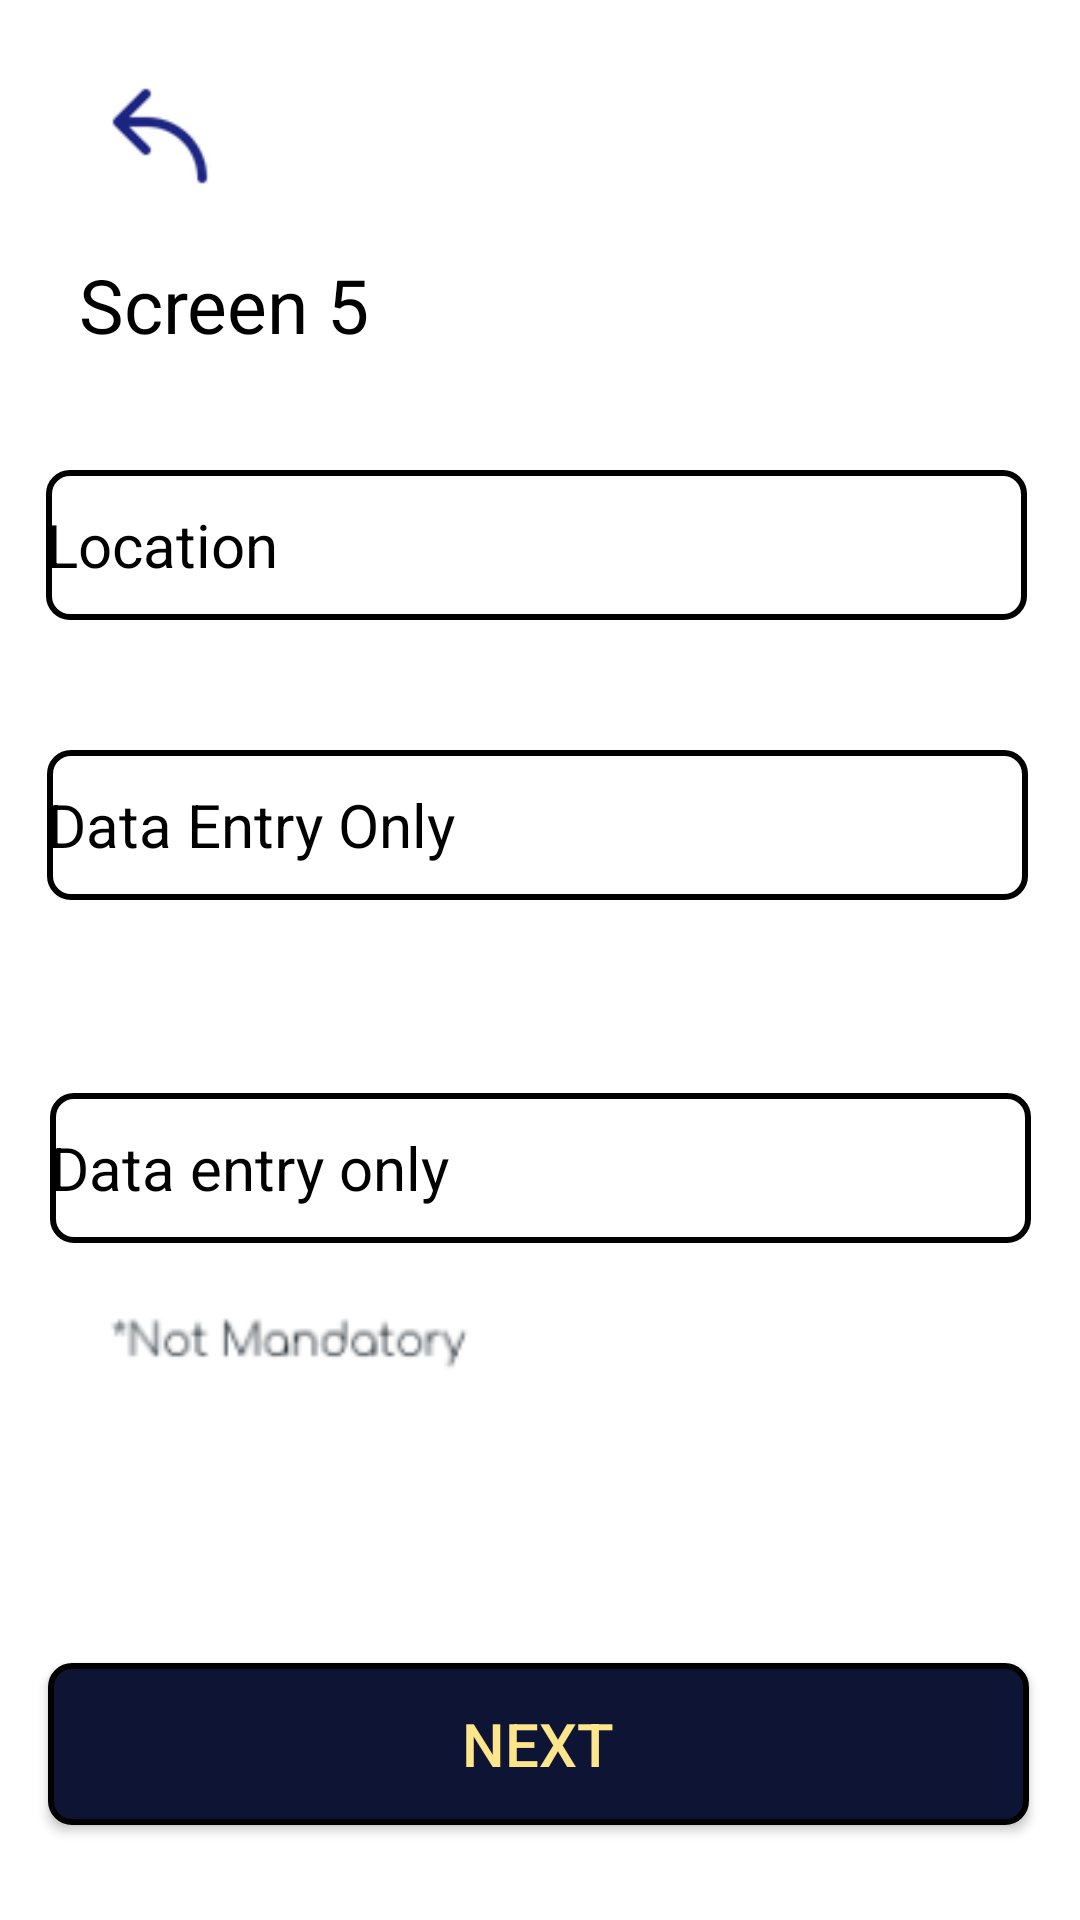

Screen size 1080*1920. Icon name, then its box in pixels as (x1, y1, x2, y2):
backarrow: (112, 88, 208, 184)
